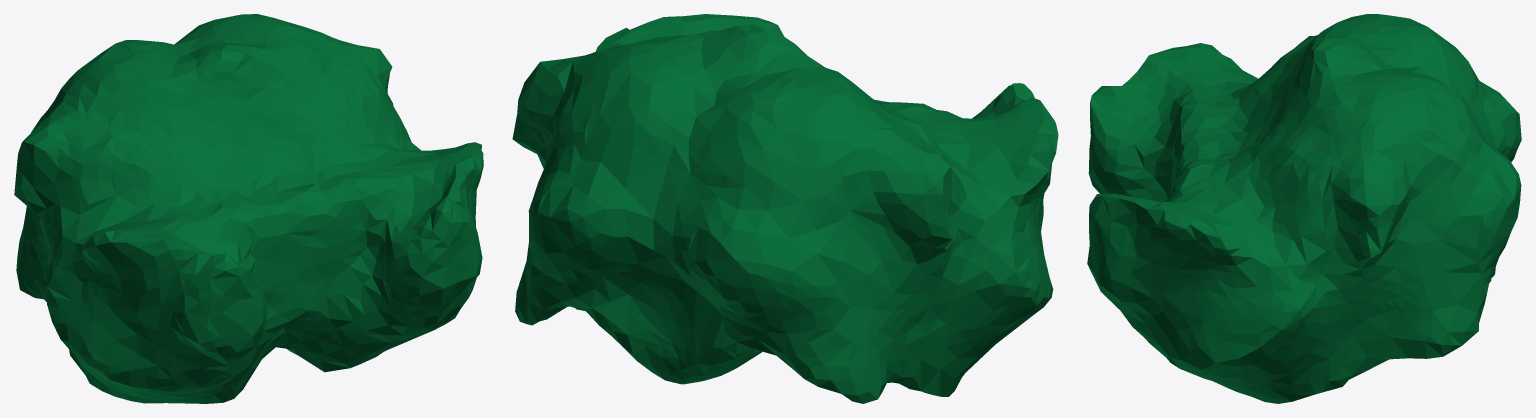
The model's file is 68-MB-midbrain-('0.0000', '0.4980', '0.2471').obj.
3 views of the same model, side by side, from view 1: azimuth 30°, elevation 25°; view 2: azimuth 150°, elevation 25°; view 3: azimuth 270°, elevation 25° (orthographic). The views are drawn at different scales.
Size of the model in its own units: 120 by 83.64 by 110.
